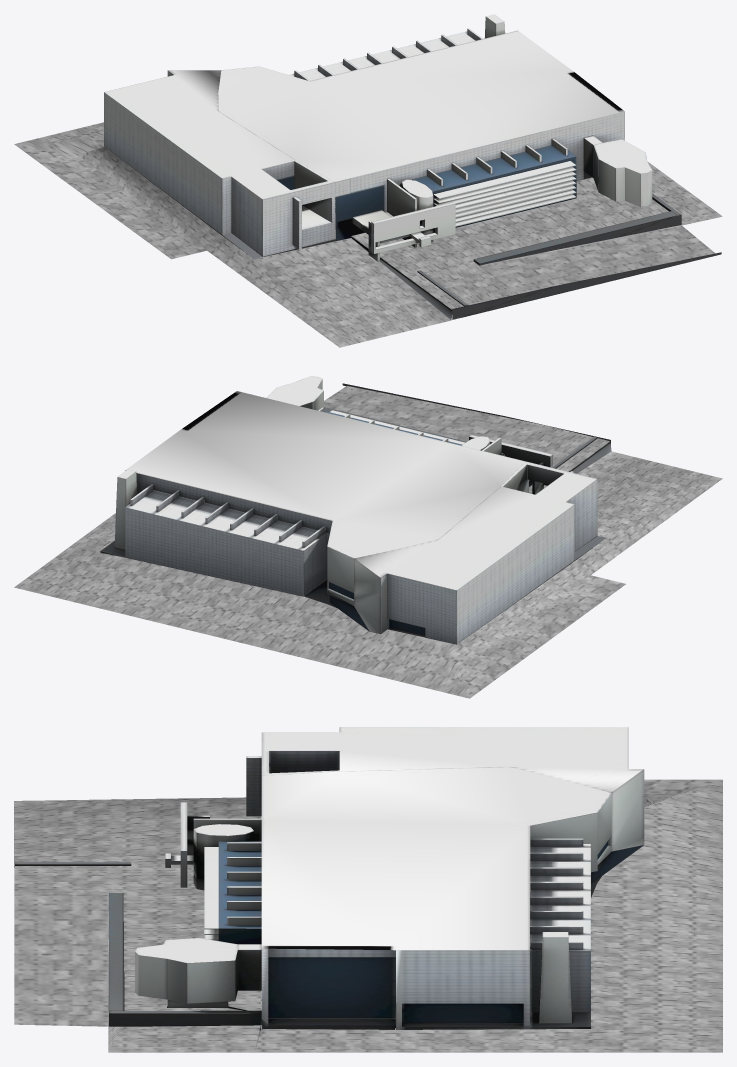
Rendered from Fachada.obj.
3 renders of one model, top to bottom at view 1: azimuth 30°, elevation 25°; view 2: azimuth 150°, elevation 25°; view 3: azimuth 270°, elevation 25°, orthographic. The views are drawn at different scales.
Parts seen in each view (by area): view 1: macba2_Mac, Object002, Object001; view 2: macba2_Mac; view 3: macba2_Mac.
Part boxes in pixels (left/top/right/bottom): macba2_Mac: left=14, top=14, right=722, bottom=347; Object002: left=452, top=252, right=721, bottom=319; Object001: left=479, top=214, right=681, bottom=265; macba2_Mac: left=14, top=376, right=722, bottom=698; macba2_Mac: left=14, top=727, right=722, bottom=1052.
Size of the model in its own units: 275 by 42.83 by 302.
Materials: 3 (3 with a texture image).
